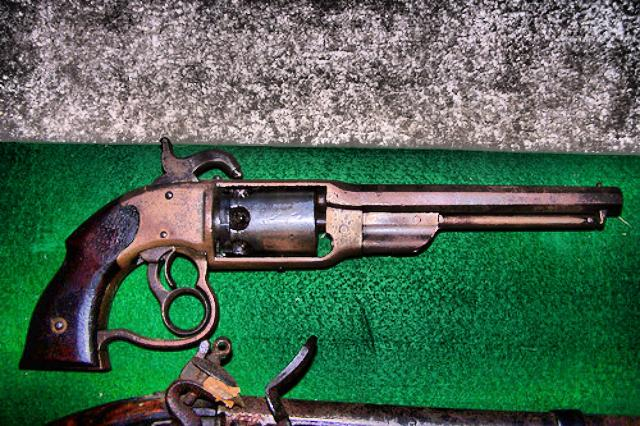pistol: (16, 130, 622, 374)
